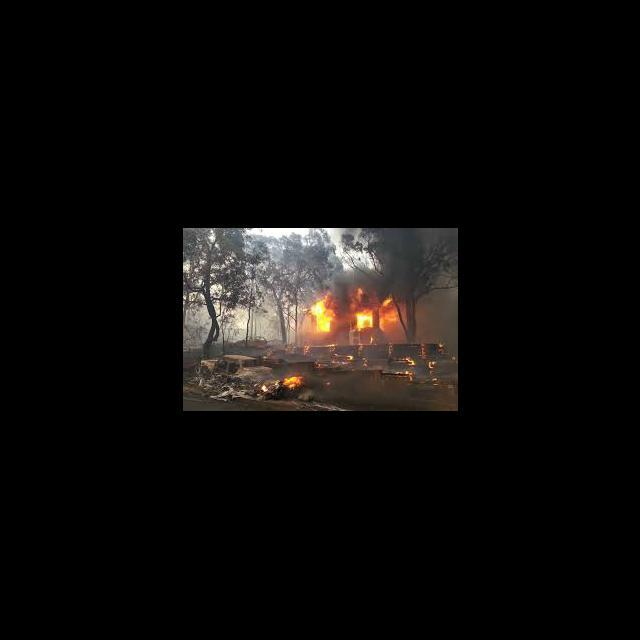Fire: (309, 292, 340, 336), (380, 300, 402, 334), (350, 308, 379, 330), (281, 372, 304, 388)
Smoke: (308, 234, 437, 288)
